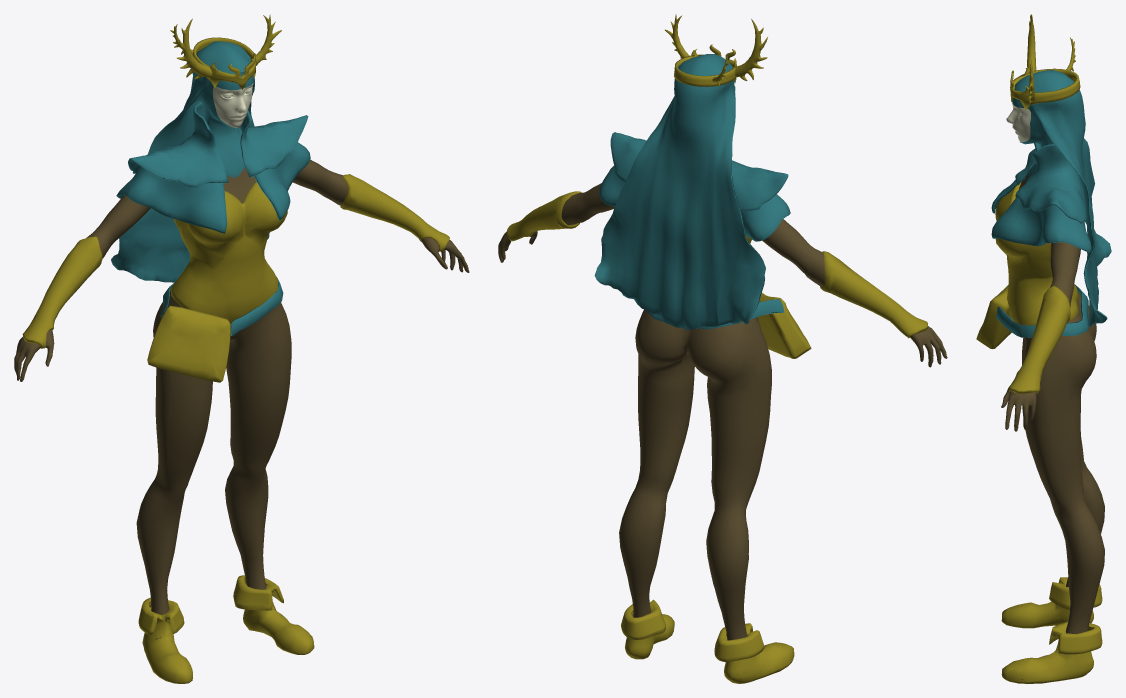
The model's file is seeker_05.fbx.
The picture shows the model from 3 angles, left to right: view 1: azimuth 30°, elevation 25°; view 2: azimuth 150°, elevation 25°; view 3: azimuth 270°, elevation 25°; orthographic projection. The views are drawn at different scales.
Parts seen in each view (by area): view 1: Human_low, Armour_low, Veil_low, CollarTop_low, Boots_low, Armlets_low, CollarLow_low, Bag_low, Circlet_low, Belt_low, Horn1_low; view 2: Human_low, Veil_low, Boots_low, Armlets_low, CollarTop_low, CollarLow_low, Bag_low, Circlet_low, Horn1_low; view 3: Human_low, Veil_low, Boots_low, Armour_low, CollarTop_low, CollarLow_low, Armlets_low, Circlet_low, Bag_low, Belt_low, Horn1_low.
Boxes of the visible parts, x1,y1,x2,y2 form: Human_low: [14, 82, 469, 639]; Armour_low: [170, 181, 287, 333]; Veil_low: [111, 41, 269, 282]; CollarTop_low: [128, 102, 308, 187]; Boots_low: [138, 575, 314, 683]; Armlets_low: [22, 174, 449, 348]; CollarLow_low: [116, 142, 310, 233]; Bag_low: [147, 305, 230, 382]; Circlet_low: [193, 37, 256, 89]; Belt_low: [160, 278, 283, 336]; Horn1_low: [177, 18, 212, 79]; Human_low: [498, 183, 947, 640]; Veil_low: [594, 54, 765, 329]; Boots_low: [621, 599, 794, 683]; Armlets_low: [506, 191, 927, 338]; CollarTop_low: [610, 132, 788, 212]; CollarLow_low: [599, 165, 790, 241]; Bag_low: [758, 293, 811, 358]; Circlet_low: [674, 44, 736, 86]; Horn1_low: [734, 19, 767, 80]; Human_low: [1001, 103, 1104, 679]; Veil_low: [1012, 70, 1111, 327]; Boots_low: [1001, 577, 1102, 683]; Armour_low: [995, 182, 1078, 325]; CollarTop_low: [1015, 143, 1087, 224]; CollarLow_low: [991, 177, 1091, 252]; Armlets_low: [1009, 286, 1070, 393]; Circlet_low: [1010, 68, 1080, 109]; Bag_low: [976, 285, 1011, 349]; Belt_low: [996, 284, 1088, 337]; Horn1_low: [1027, 14, 1036, 71].
Size of the model in its own units: 139 by 192 by 38.19.
